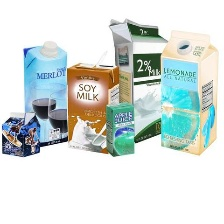carton: (106, 13, 174, 144), (156, 26, 222, 159), (64, 58, 122, 158), (18, 35, 68, 148), (100, 97, 137, 160), (0, 108, 43, 161)
